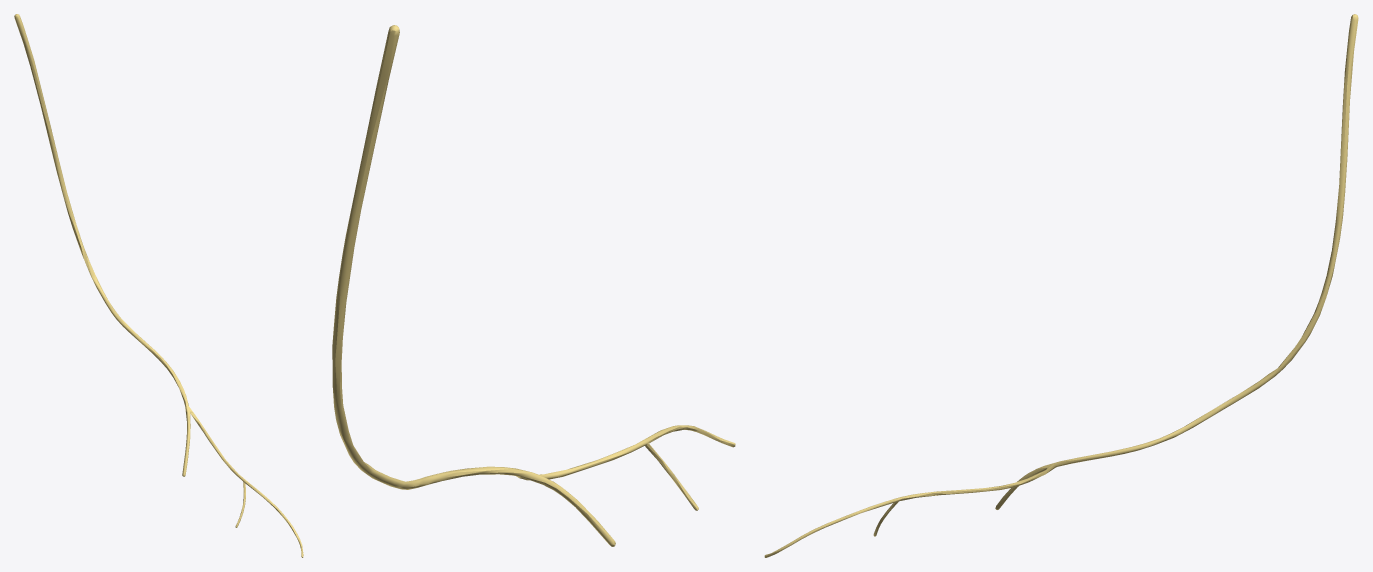
Rendered from fma52803_fj3902.glb.
3 views of the same model, side by side, from view 1: azimuth 30°, elevation 25°; view 2: azimuth 150°, elevation 25°; view 3: azimuth 270°, elevation 25° (orthographic). The views are drawn at different scales.
Parts seen in each view (by area): view 1: FMA52803_FJ3902; view 2: FMA52803_FJ3902; view 3: FMA52803_FJ3902.
Boxes of the visible parts, bbox=[...] form: FMA52803_FJ3902: bbox=[14, 14, 303, 557]; FMA52803_FJ3902: bbox=[332, 25, 735, 546]; FMA52803_FJ3902: bbox=[764, 14, 1358, 557].
Size of the model in its own units: 0.00647 by 0.0354 by 0.0376.
